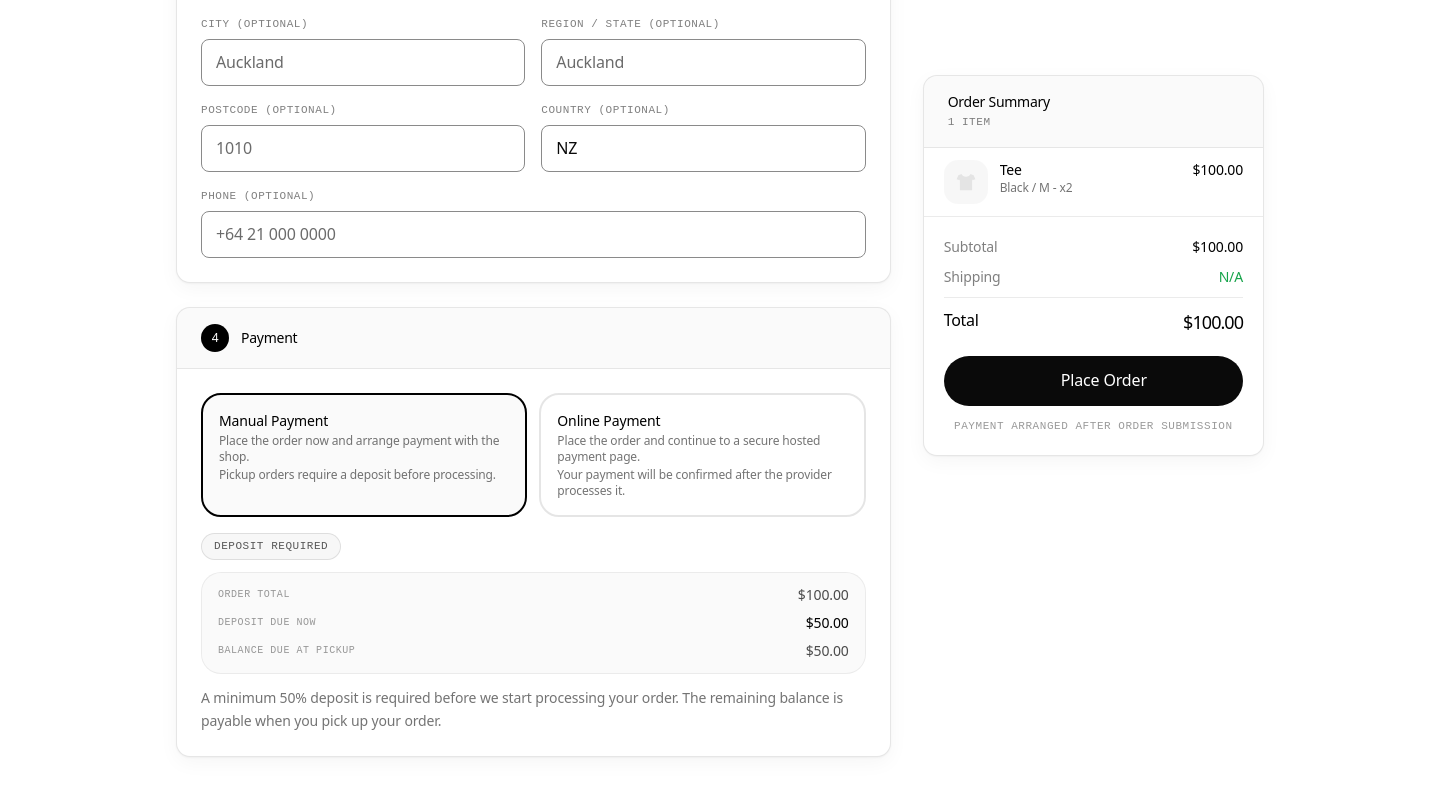
Test: checkout page — quote fetching › keeps the pre-surcharge checkout untouched when the surcharge is disabled
(page scrolled)
Click the radio button labelled "Online Payment". click: (609, 420)
box: [539,393,866,517]
(page scrolled)
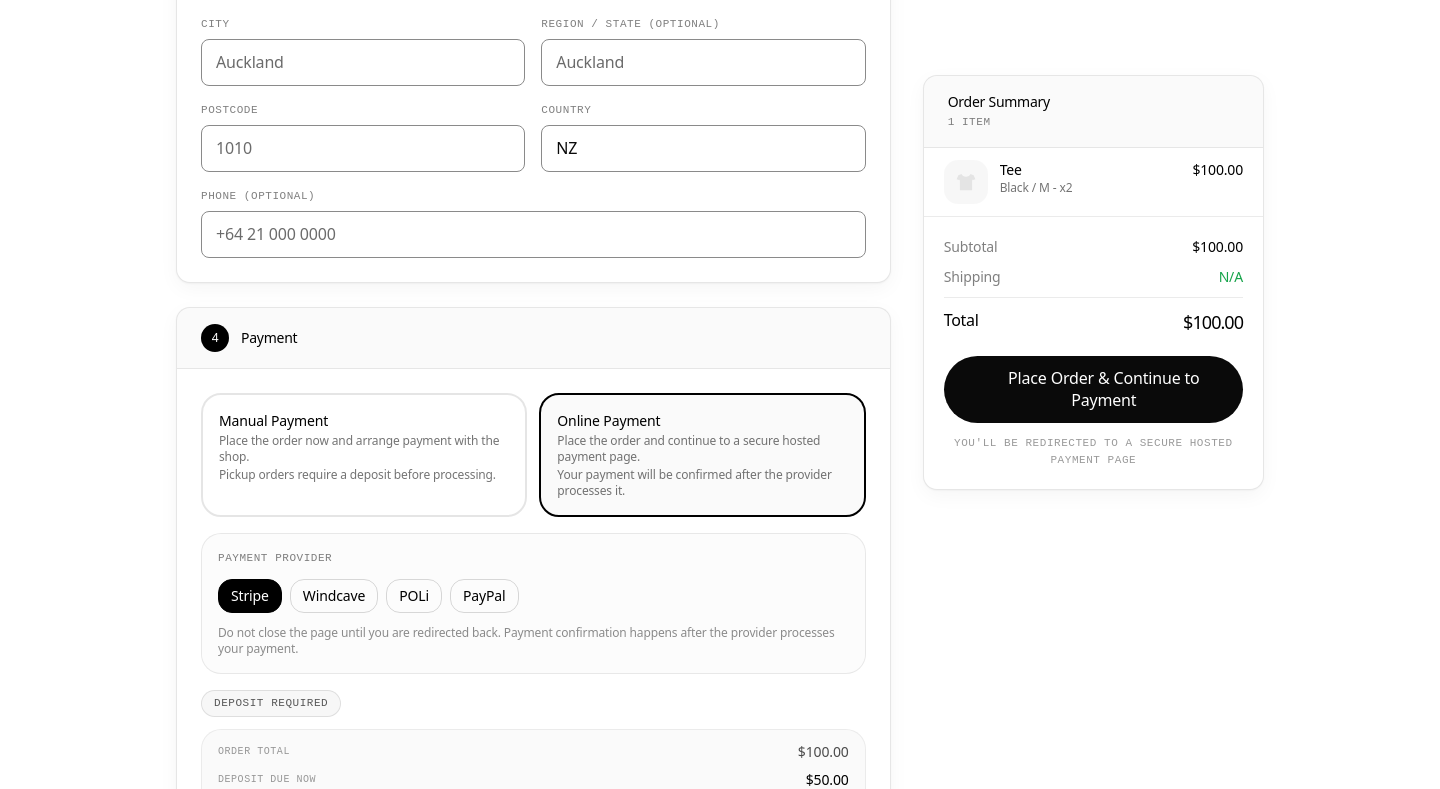
Expected: the submit button is enabled, [944,356,1243,423]
Expected: the submit button reads "Place Order & Continue to Payment", [944,356,1243,423]
